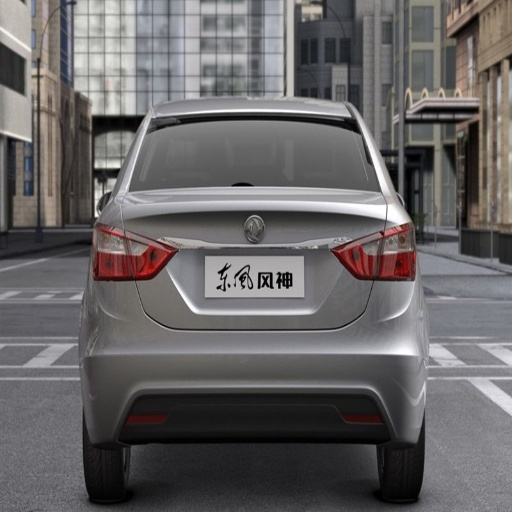back_bumper: (74, 280, 434, 447)
